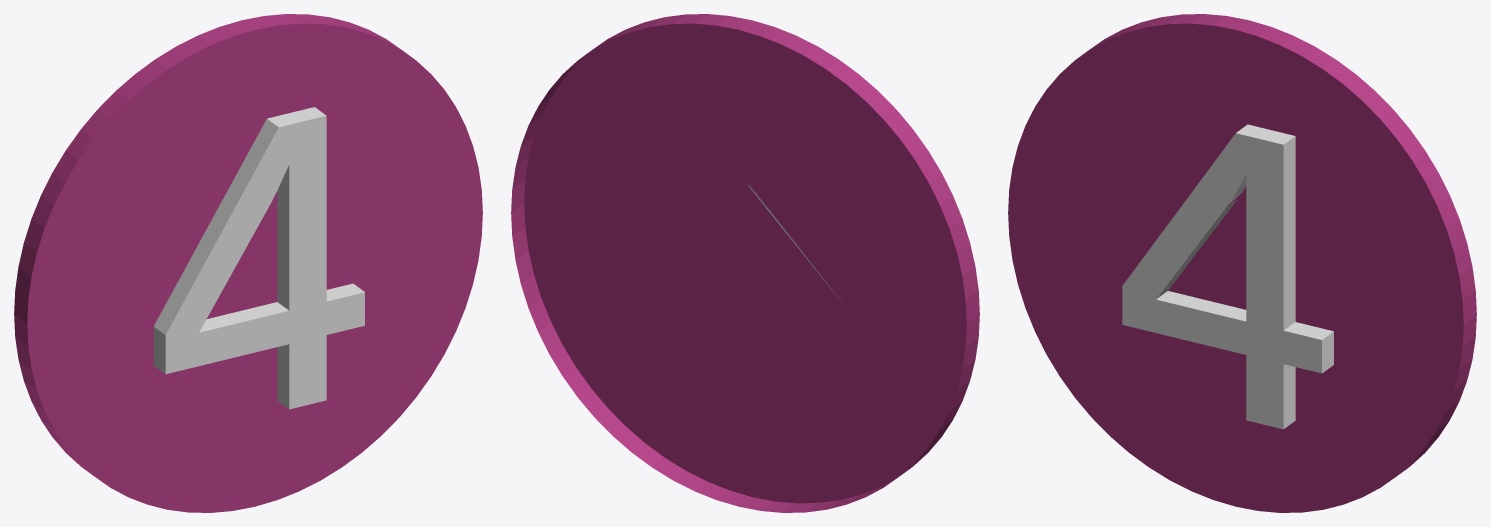
The model's file is Ligne4.glb.
3 views of the same model, side by side, from view 1: azimuth 30°, elevation 25°; view 2: azimuth 150°, elevation 25°; view 3: azimuth 330°, elevation 25° (orthographic).
Parts seen in each view (by area): view 1: Ligne4; view 2: Ligne4; view 3: Ligne4.
Part boxes in pixels (box(x1,y1,x2,y2)): Ligne4: box(14, 14, 482, 512); Ligne4: box(511, 14, 979, 512); Ligne4: box(1008, 14, 1476, 512).
Size of the model in its own units: 0.22 by 0.22 by 0.021.
